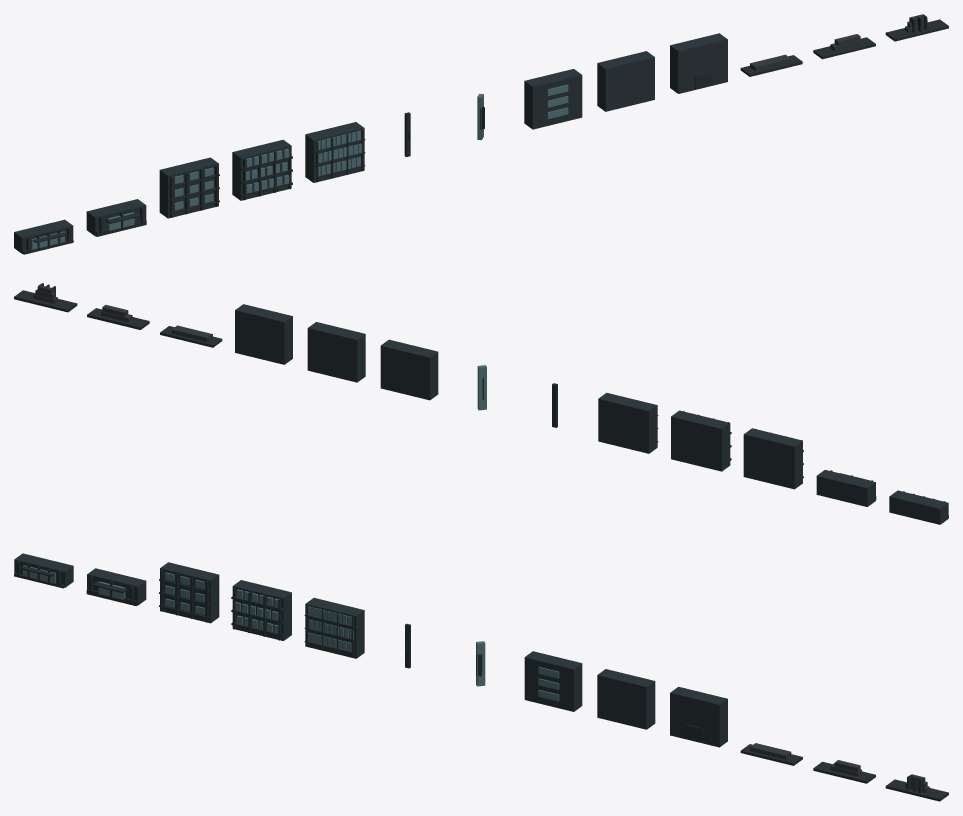
Rendered from miesian-grid.glb.
3 renders of one model, top to bottom at view 1: azimuth 30°, elevation 25°; view 2: azimuth 150°, elevation 25°; view 3: azimuth 330°, elevation 25°, orthographic.
Parts seen in each view (by area): view 1: middle-wall (×3), party-wall, rear-wall, exposed-wall, base-shell (×2), cornice; view 2: middle-wall (×3), base-shell (×2), party-wall, exposed-wall, rear-wall, cornice; view 3: middle-wall (×3), party-wall, rear-wall, exposed-wall, base-shell (×2).
Boxes of the visible parts, <box> form: middle-wall (×3): <box>159,122,364,218</box>; party-wall: <box>597,51,654,111</box>; rear-wall: <box>670,33,727,93</box>; exposed-wall: <box>524,69,582,129</box>; base-shell (×2): <box>14,199,146,253</box>; cornice: <box>885,19,948,41</box>; middle-wall (×3): <box>598,392,802,489</box>; base-shell (×2): <box>816,470,948,524</box>; party-wall: <box>307,322,365,382</box>; exposed-wall: <box>380,339,438,400</box>; rear-wall: <box>235,304,292,364</box>; cornice: <box>14,290,77,312</box>; middle-wall (×3): <box>160,562,364,658</box>; party-wall: <box>597,669,655,729</box>; rear-wall: <box>670,686,727,747</box>; exposed-wall: <box>524,651,582,711</box>; base-shell (×2): <box>14,553,146,605</box>.
Bounding box in the file's own units: 63.61 × 2.8 × 1.6.
